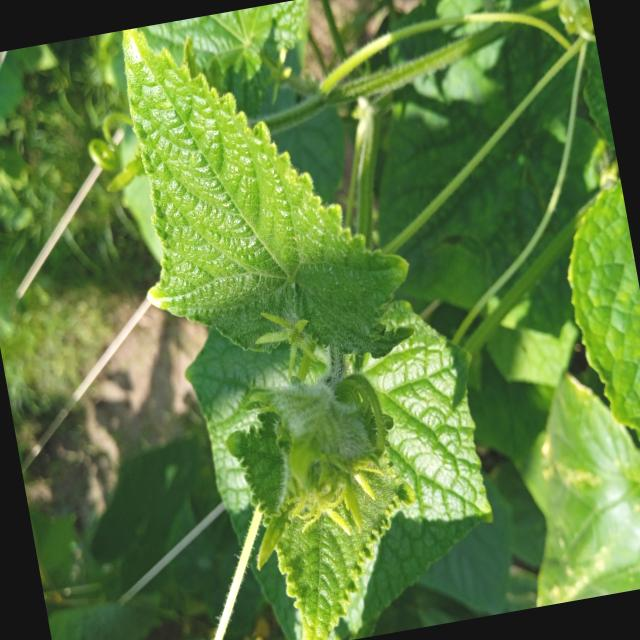cucumber_healthy: (102, 0, 424, 388), (172, 279, 518, 640), (222, 383, 441, 640), (540, 166, 640, 453)
